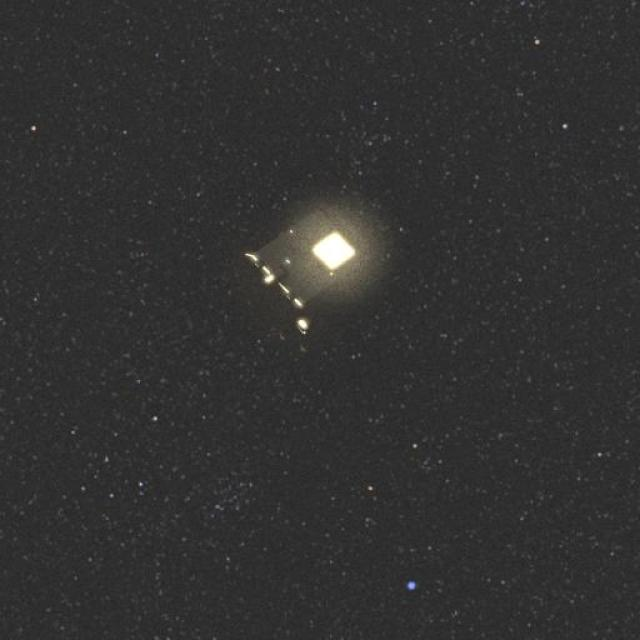proba_3_ocs: (224, 175, 369, 328)
